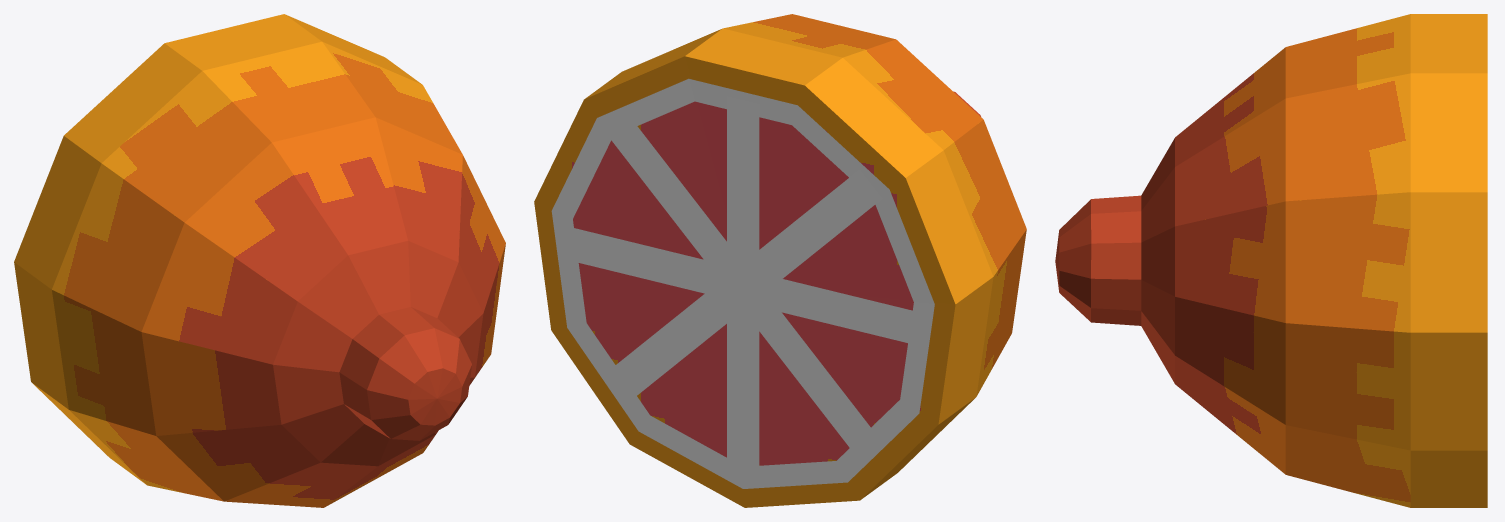
The model's file is lemon.fbx.
The picture shows the model from 3 angles, left to right: view 1: azimuth 30°, elevation 25°; view 2: azimuth 150°, elevation 25°; view 3: azimuth 270°, elevation 25°; orthographic projection.
Visible parts, largest first — view 1: sphere; view 2: sphere; view 3: sphere.
Part boxes in pixels (x1,y1,x2,y2): sphere: (14,14,505,507); sphere: (534,14,1026,507); sphere: (1055,14,1487,507).
Bounding box in the file's own units: 96.32 × 95.47 × 84.99.
1 material, 1 textured.
